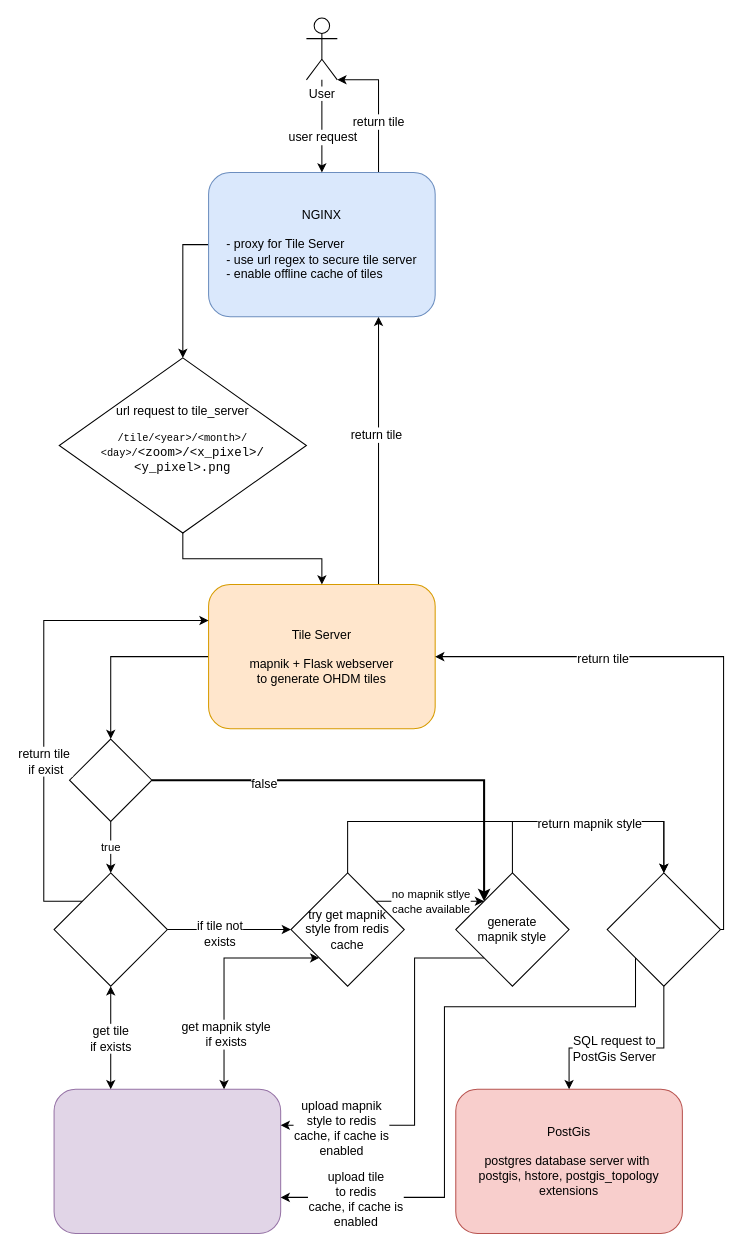
Image size: 750x1251. Some labels were removed from this diagram. The centre of each missing label's shape, as x and y in pixels:
"generate tile with mapnik style" belongs at (x=663, y=929).
"if cache enable" belongs at (x=110, y=779).
"Redis caching of mapnik tiles and project.xml for each date" belongs at (x=167, y=1160).
"try get tile from redis cache" belongs at (x=110, y=929).
